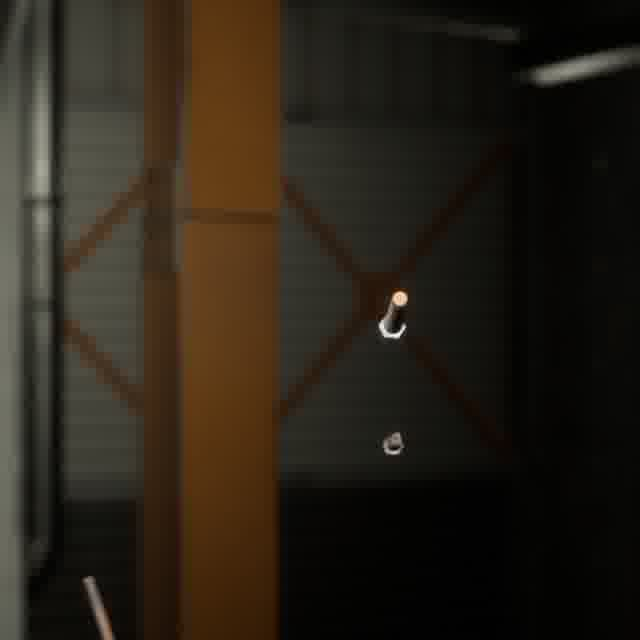bolt: (78, 571, 120, 640), (374, 286, 412, 343), (377, 427, 408, 460)
